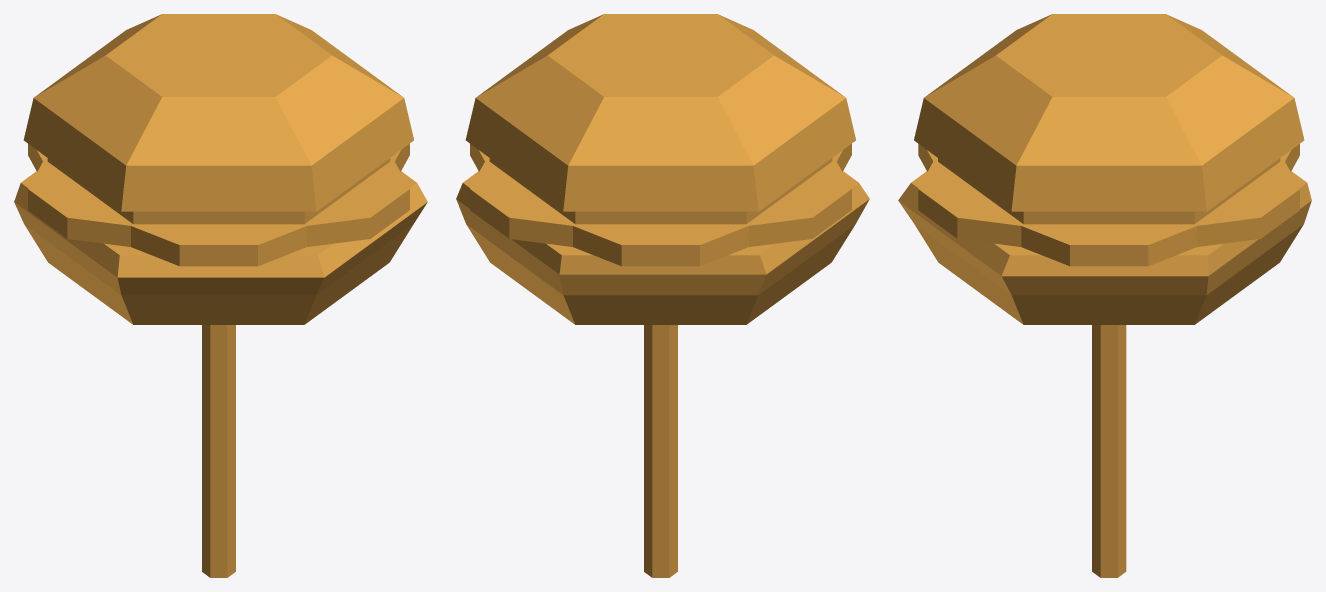
The model's file is burger-statue.glb.
The picture shows the model from 3 angles, left to right: view 1: azimuth 30°, elevation 25°; view 2: azimuth 150°, elevation 25°; view 3: azimuth 270°, elevation 25°; orthographic projection.
Visible parts, largest first — view 1: burger-statue; view 2: burger-statue; view 3: burger-statue.
Part boxes in pixels (left/top/right/bottom): burger-statue: left=14, top=14, right=427, bottom=577; burger-statue: left=456, top=14, right=869, bottom=577; burger-statue: left=898, top=14, right=1311, bottom=577.
Bounding box in the file's own units: 5.07 × 7.3 × 5.3.
